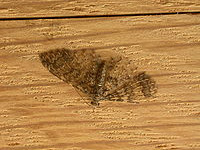Alucitidae: (37, 42, 158, 110)
moth: (39, 44, 160, 112)
